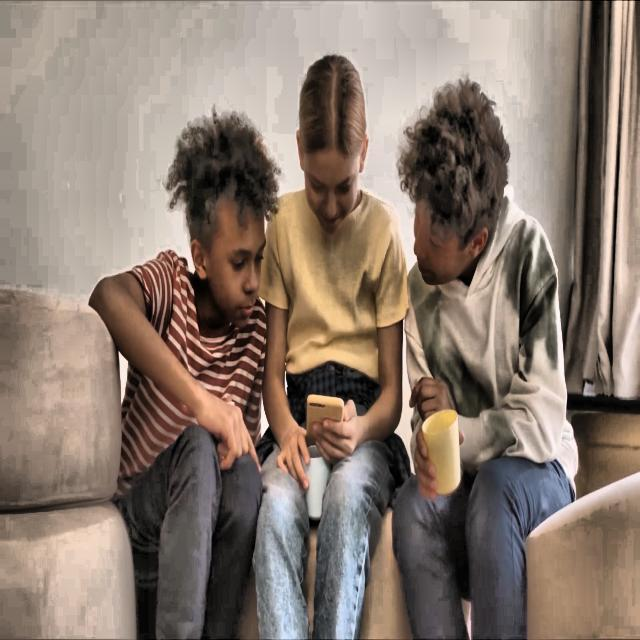Phone: (306, 390, 346, 447)
